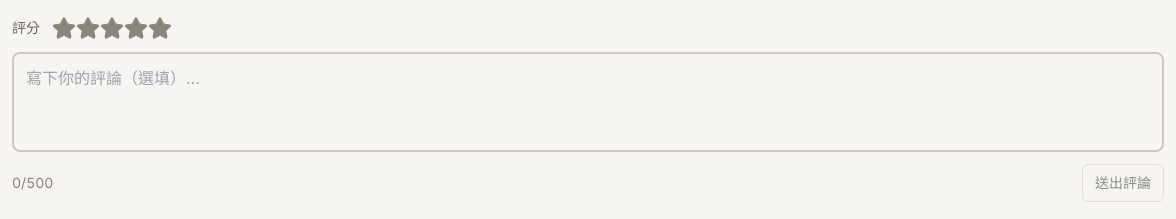
Test: CommentForm › 給了評分後才能送出
Click the 4th icon at (136,28), box [124, 16, 148, 40]
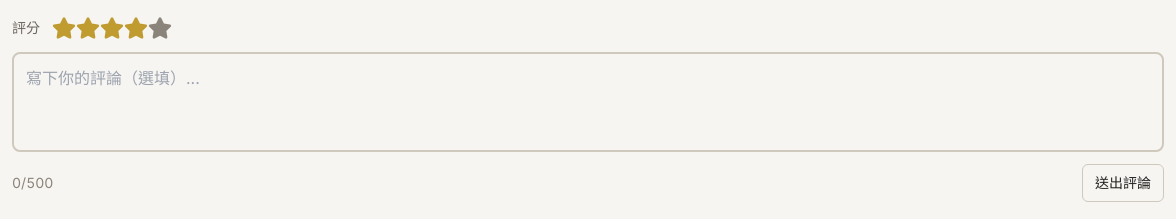
Expected: the button "送出評論" is enabled, [1082, 164, 1164, 202]
